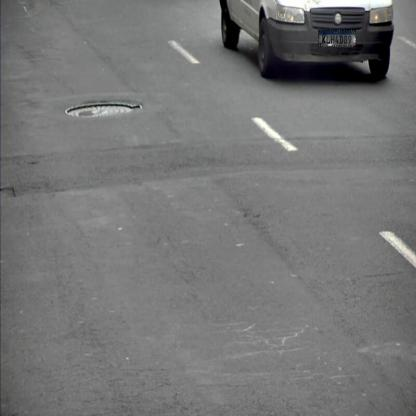PlacaM: (318, 30, 356, 46)
